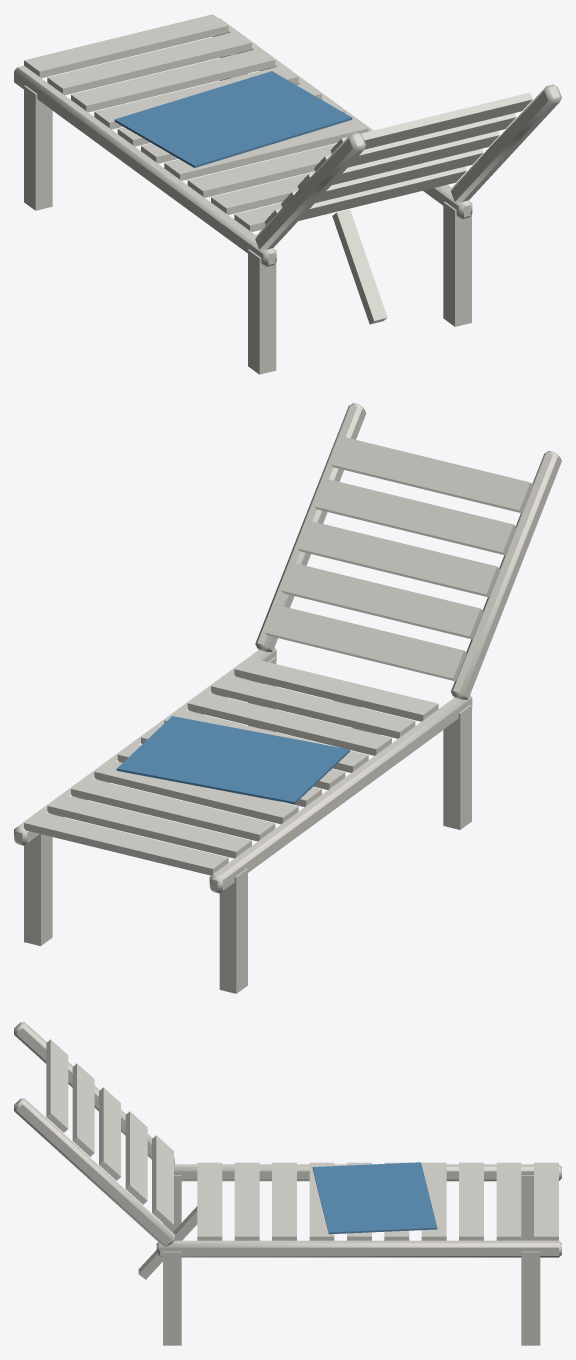
The model's file is lounge_chair.glb.
The picture shows the model from 3 angles, top to bottom: view 1: azimuth 30°, elevation 25°; view 2: azimuth 150°, elevation 25°; view 3: azimuth 270°, elevation 25°; orthographic projection. The views are drawn at different scales.
Visible parts, largest first — view 1: Lounger; view 2: Lounger; view 3: Lounger.
Boxes of the visible parts, x1=… form: Lounger: x1=14, y1=14, x2=561, y2=374; Lounger: x1=14, y1=403, x2=561, y2=993; Lounger: x1=14, y1=1022, x2=561, y2=1345.
Size of the model in its own units: 0.63 by 0.8581 by 1.76.
